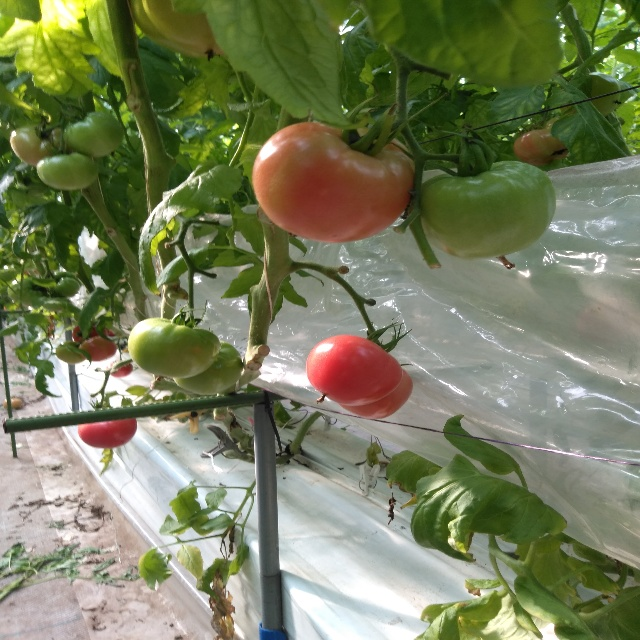b_fully_ripened: (307, 334, 402, 406), (338, 368, 413, 419), (78, 418, 138, 449)
b_green: (419, 160, 556, 260), (127, 317, 221, 379), (141, 1, 226, 54), (173, 341, 243, 395), (63, 111, 124, 158), (36, 150, 99, 190), (588, 71, 621, 116), (54, 341, 85, 363), (55, 276, 80, 298)
b_half_ripened: (252, 122, 415, 243), (10, 124, 75, 167), (514, 129, 569, 165), (77, 336, 117, 362)
